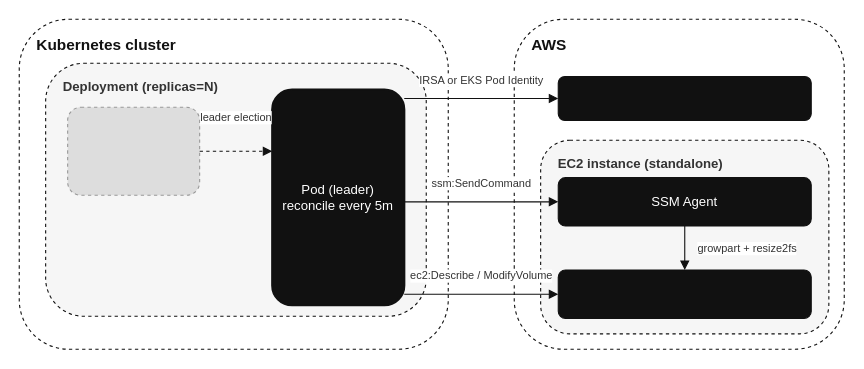
Image size: 864x369. Some labels were removed from this diagram. The shapes that lost their labels are listed below. From the top down, each one's centre as x and y in pixels, then its label:
point 684,97: IAM Role
point 133,150: Pod (standby)
point 684,293: EBS root volume
